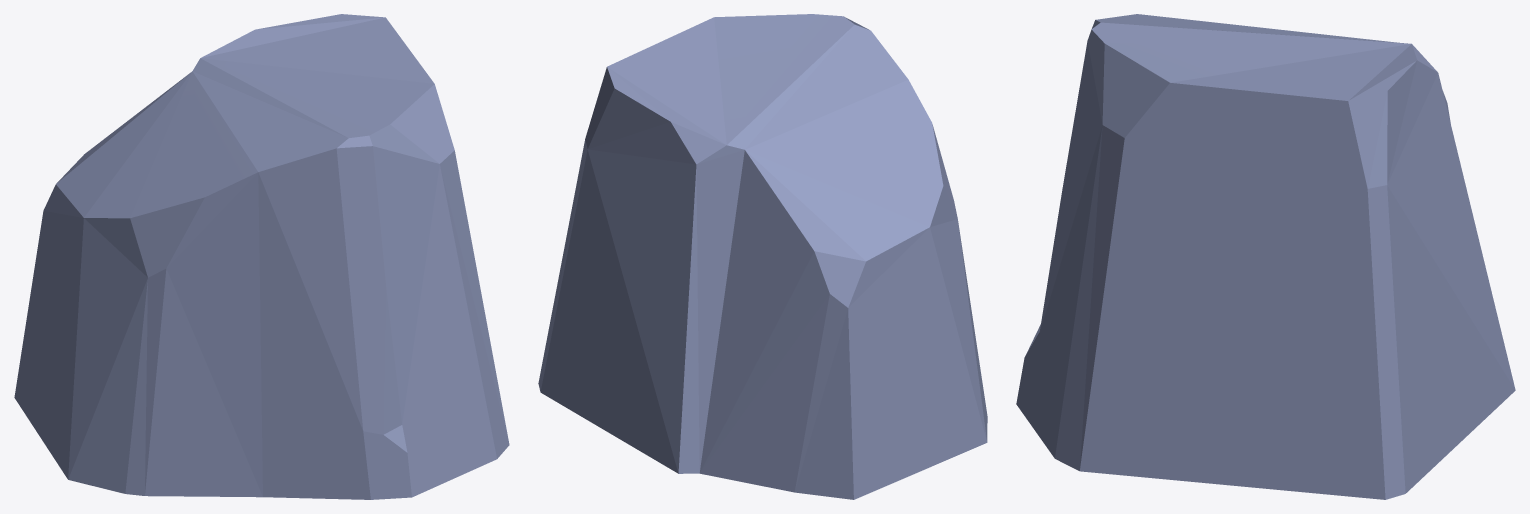
The model's file is Rock_23.fbx.
The picture shows the model from 3 angles, left to right: view 1: azimuth 30°, elevation 25°; view 2: azimuth 150°, elevation 25°; view 3: azimuth 270°, elevation 25°; orthographic projection. The views are drawn at different scales.
Parts seen in each view (by area): view 1: Rock_23; view 2: Rock_23; view 3: Rock_23.
Part boxes in pixels (box(x1,y1,x2,y2)): Rock_23: box(14, 14, 509, 499); Rock_23: box(538, 14, 987, 499); Rock_23: box(1016, 14, 1515, 499).
Bounding box in the file's own units: 4.94 × 3.9 × 4.69.
